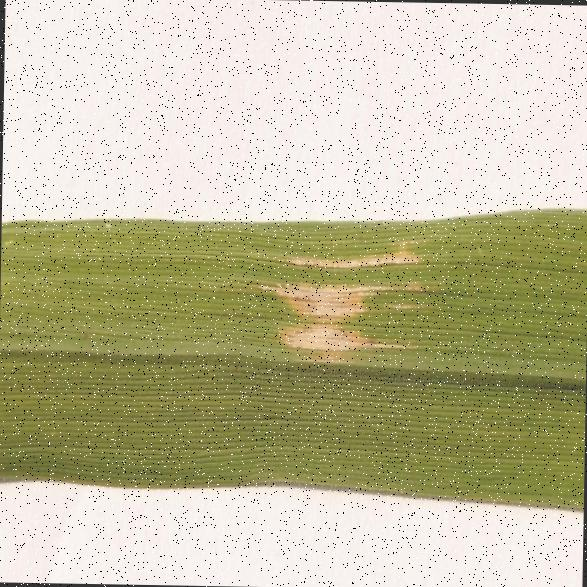Bacteria_Leaf_Blight: (233, 204, 445, 404)
